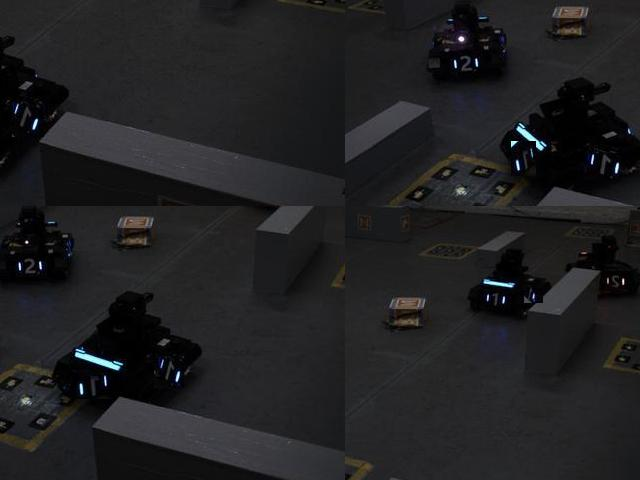armor: (73, 370, 114, 400), (585, 147, 621, 181), (12, 102, 45, 139), (155, 357, 186, 390), (13, 250, 49, 278), (512, 142, 538, 178), (448, 53, 484, 75), (603, 272, 630, 293), (482, 291, 506, 309), (524, 284, 544, 304)
